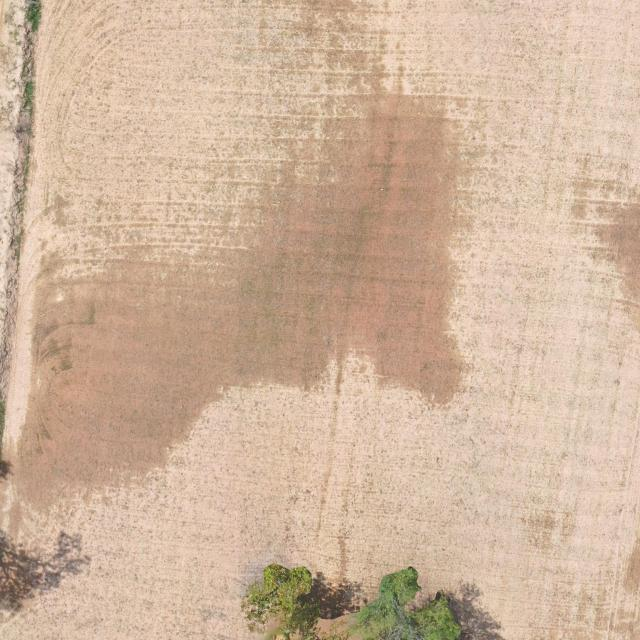Tree: (346, 565, 465, 640), (240, 559, 324, 635)
